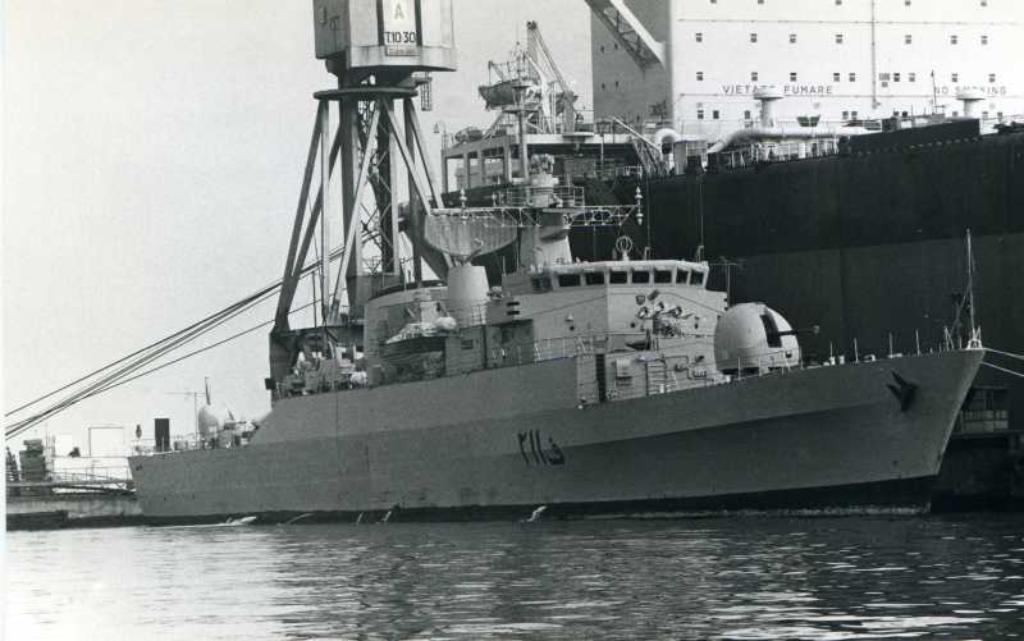Warship: (125, 53, 987, 526)
